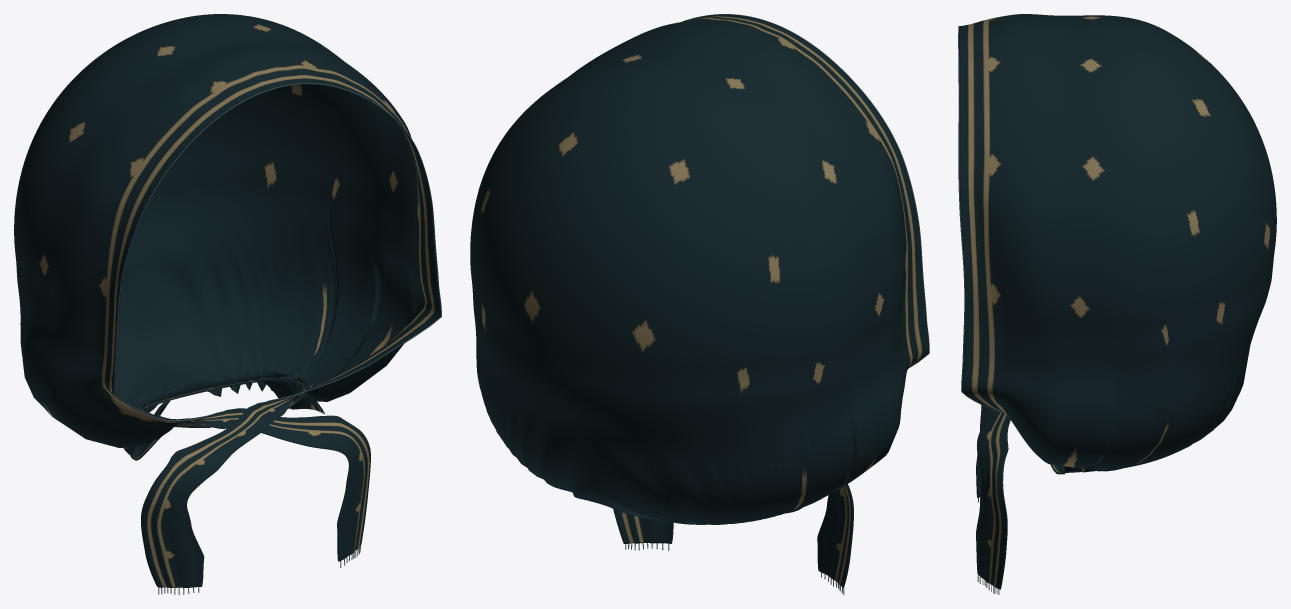
File: Masculine-Masculine-flow-sweatshirt-pashmina250-headgear-7dc2ccd5.glb
3 views of the same model, side by side, from view 1: azimuth 30°, elevation 25°; view 2: azimuth 150°, elevation 25°; view 3: azimuth 270°, elevation 25° (orthographic). The views are drawn at different scales.
Visible parts, largest first — view 1: 226 headgear / Headwear / continuous woven pashmina239, 226 headgear / Headwear / face edge239; view 2: 226 headgear / Headwear / continuous woven pashmina239, 226 headgear / Headwear / face edge239; view 3: 226 headgear / Headwear / continuous woven pashmina239, 226 headgear / Headwear / face edge239.
Boxes of the visible parts, x1,y1,x2,y2 form: 226 headgear / Headwear / continuous woven pashmina239: (14, 14, 440, 587); 226 headgear / Headwear / face edge239: (114, 83, 441, 421); 226 headgear / Headwear / continuous woven pashmina239: (470, 14, 928, 587); 226 headgear / Headwear / face edge239: (681, 14, 929, 368); 226 headgear / Headwear / continuous woven pashmina239: (959, 14, 1276, 589); 226 headgear / Headwear / face edge239: (958, 26, 1005, 413).
Bounding box in the file's own units: 0.9061 × 1.24 × 0.6906.
Materials: 3 (1 with a texture image).
